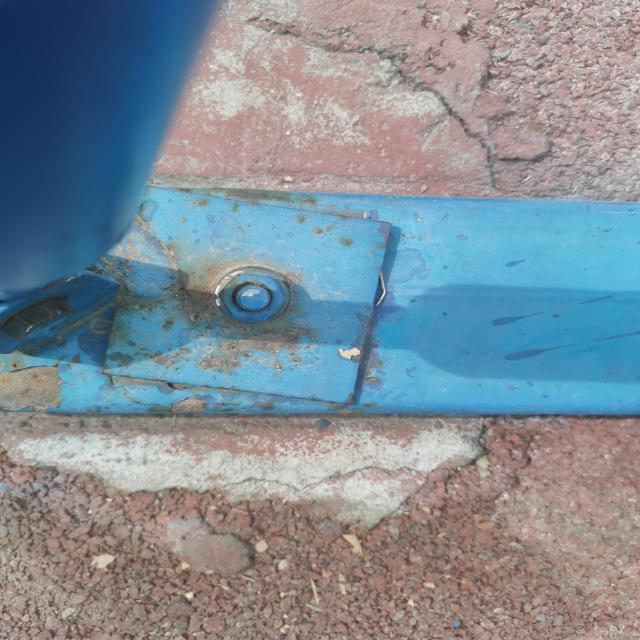bolt nut: (216, 272, 288, 324)
bolt side: (1, 294, 75, 342)
